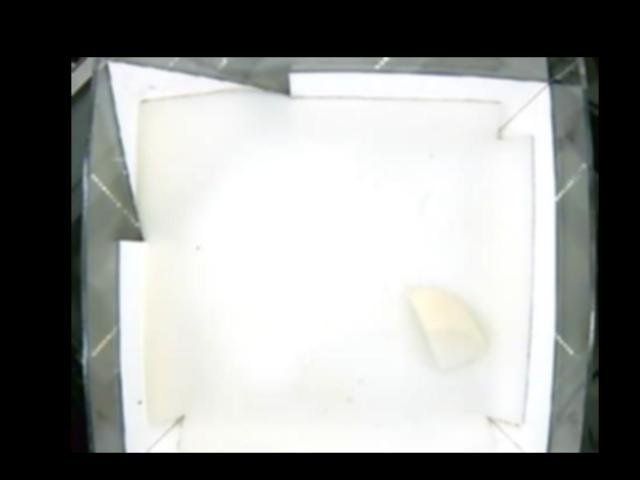Mooli: (408, 287, 488, 371)
